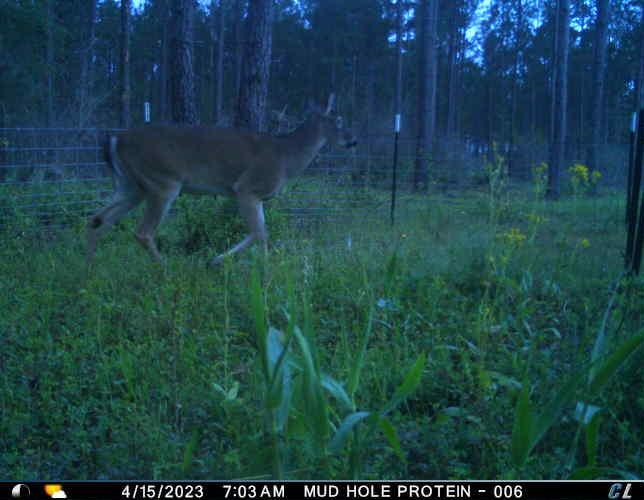Deer: (83, 87, 361, 285)
